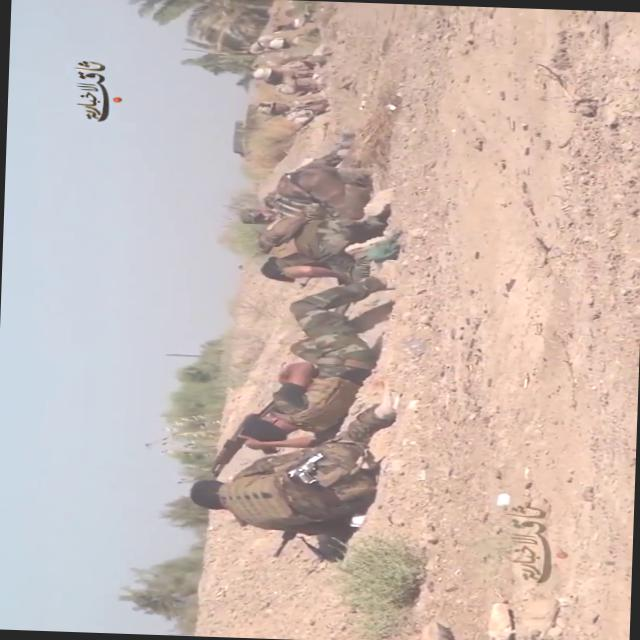long weapon: (198, 391, 286, 478)
